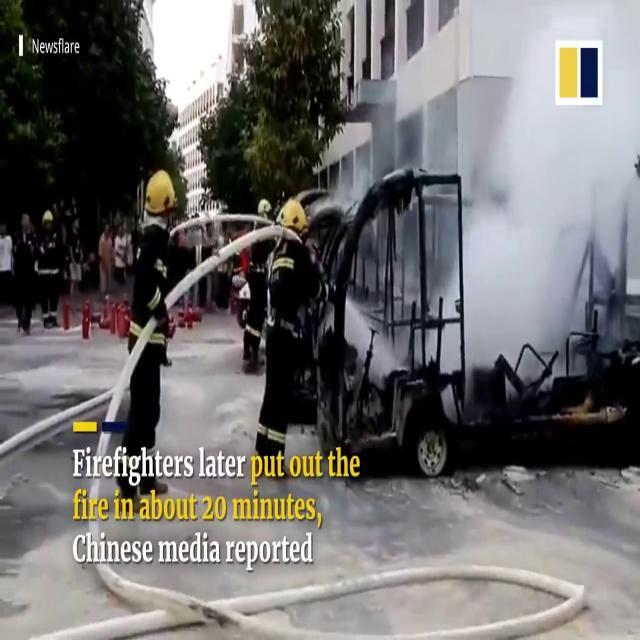Smoke: (451, 0, 640, 354)
